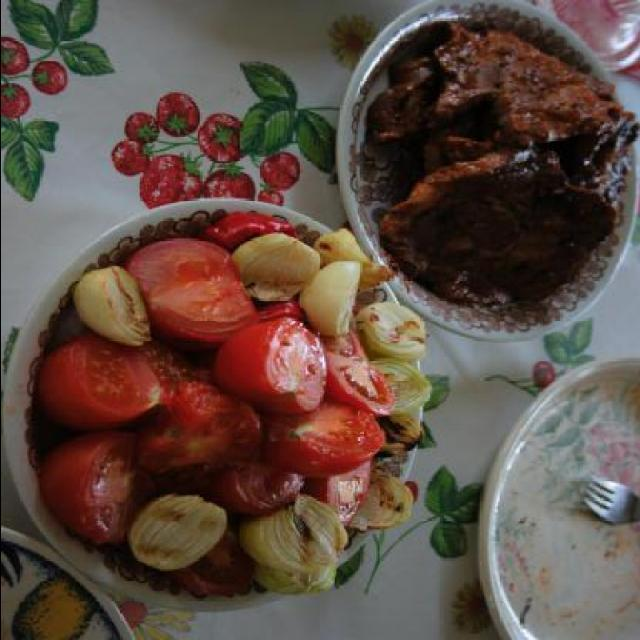Tomato: (123, 237, 260, 341), (35, 338, 207, 420), (201, 313, 317, 424), (39, 432, 147, 545), (264, 396, 387, 478), (327, 350, 396, 416), (134, 151, 200, 207), (200, 162, 258, 204), (198, 112, 242, 160), (156, 92, 202, 136), (258, 152, 302, 188), (112, 140, 154, 176), (30, 58, 68, 96), (120, 113, 156, 144), (1, 37, 30, 75), (1, 85, 28, 118), (252, 185, 284, 207)
